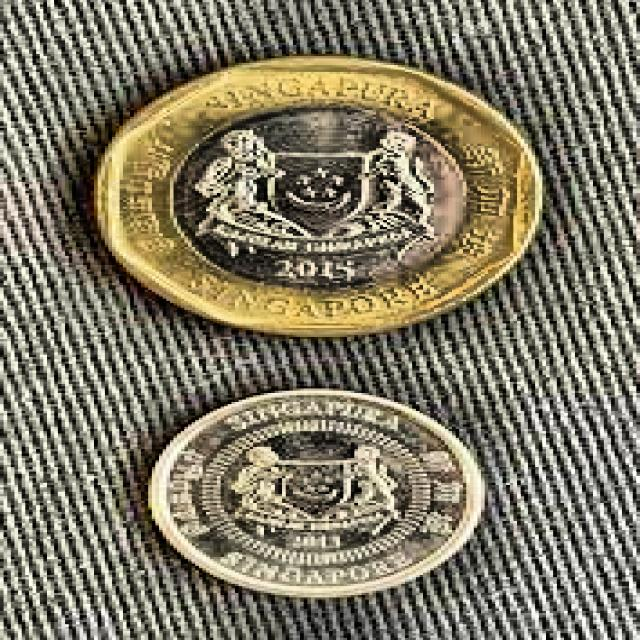coin: (98, 58, 539, 335)
